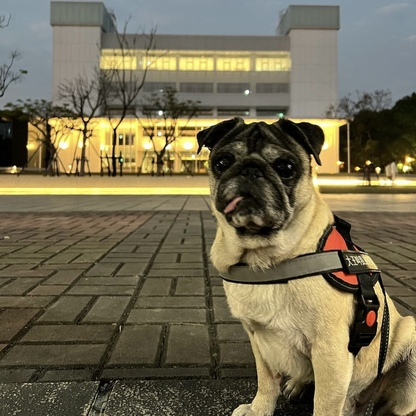Pug: (186, 110, 416, 416)
